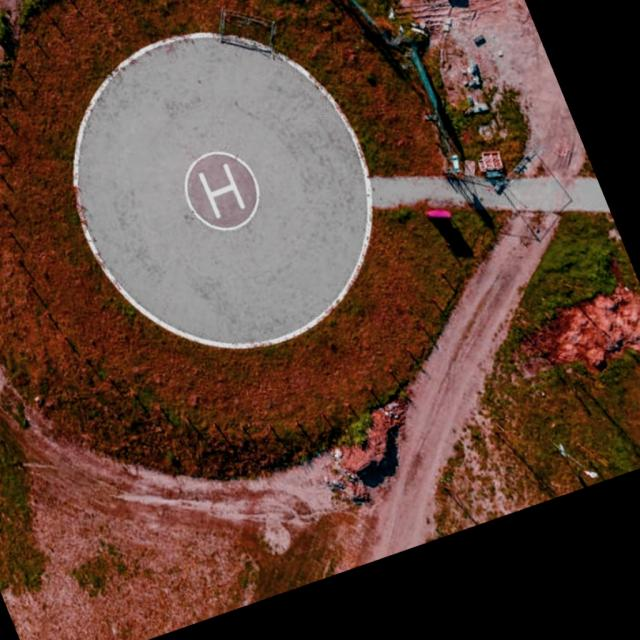helipad: (177, 146, 263, 234)
